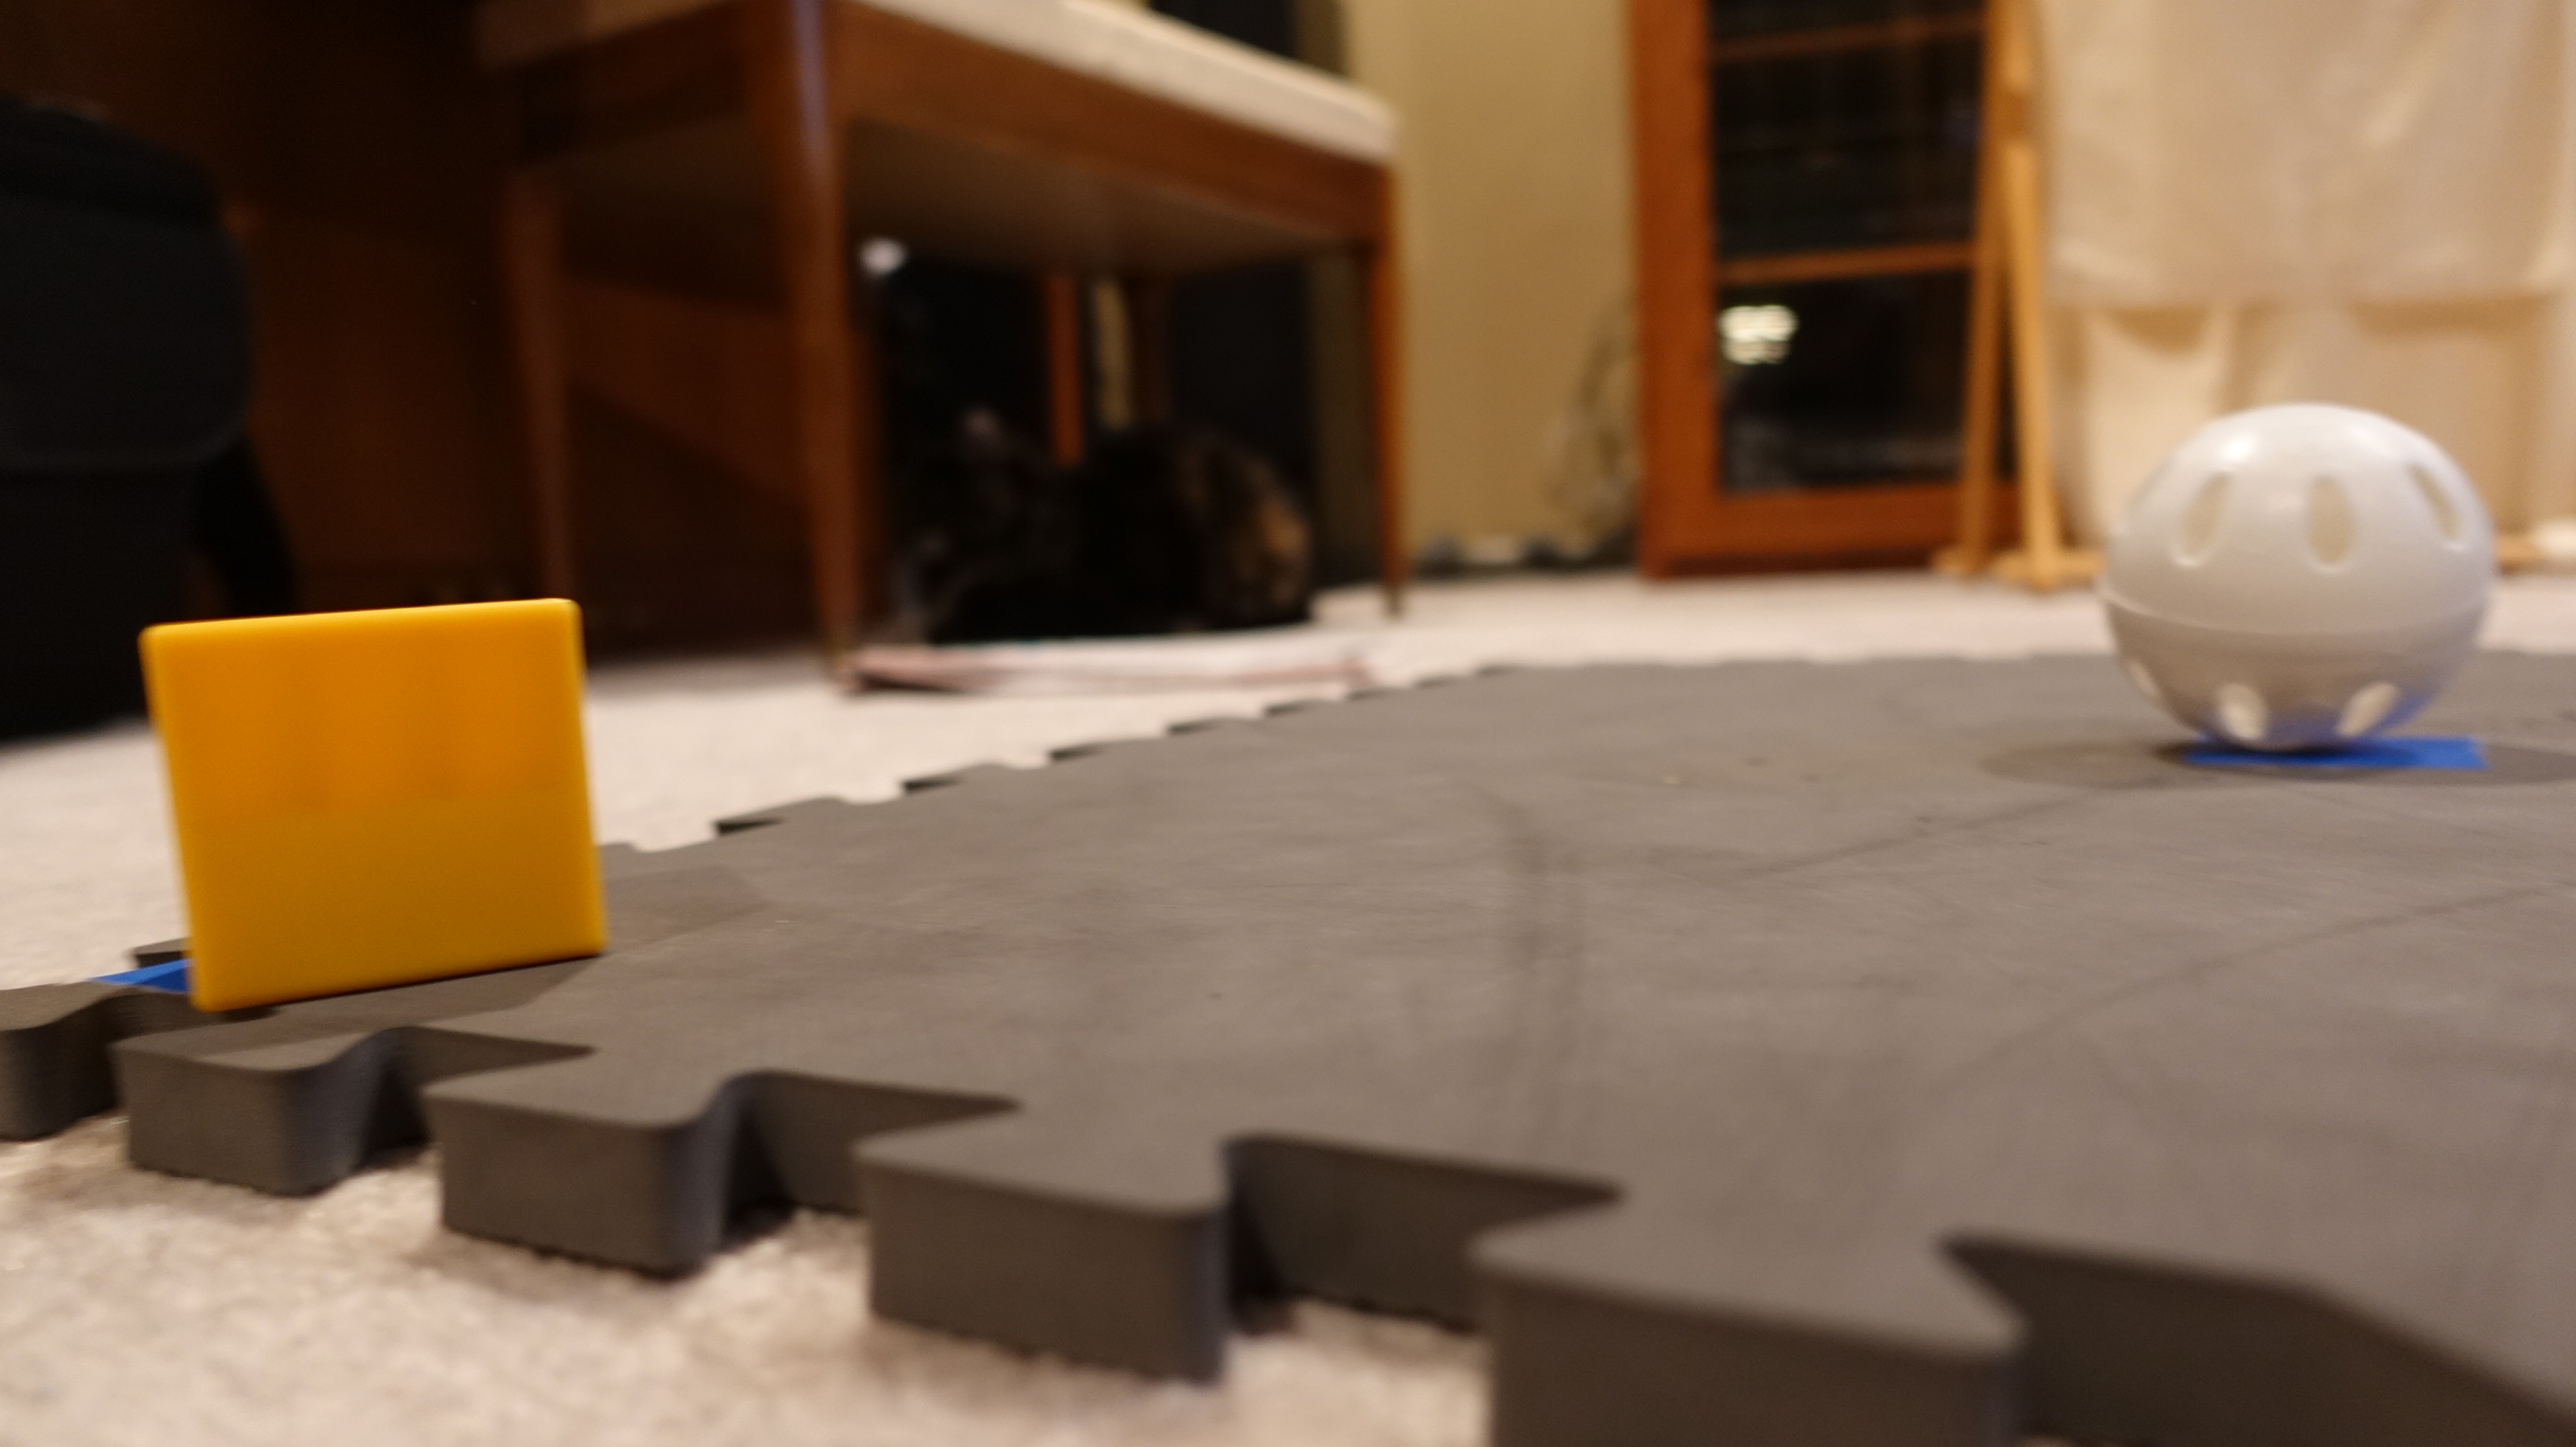gold: (138, 591, 625, 1024)
silver: (2089, 403, 2511, 762)
